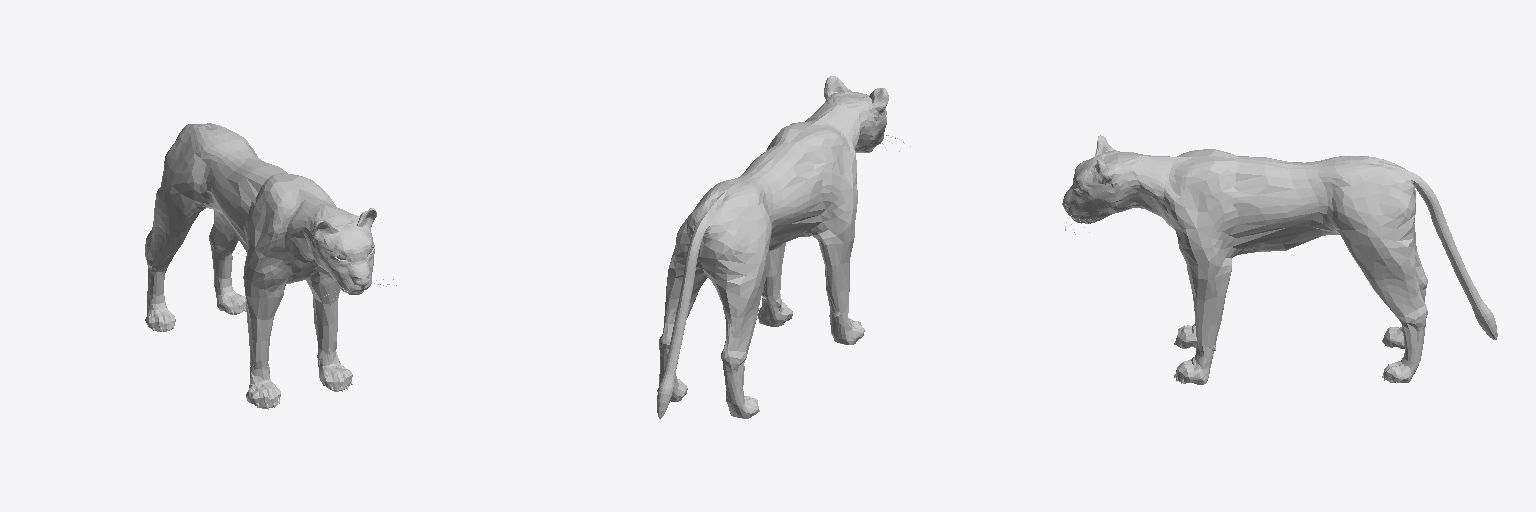
Rendered from LEOPARD.OBJ.
The picture shows the model from 3 angles: view 1: azimuth 30°, elevation 25°; view 2: azimuth 150°, elevation 25°; view 3: azimuth 270°, elevation 25°; orthographic projection.
Parts seen in each view (by area): view 1: lprd_body; view 2: lprd_body; view 3: lprd_body.
Part boxes in pixels (bbox=[...]): lprd_body: bbox=[145, 123, 376, 409]; lprd_body: bbox=[657, 76, 888, 418]; lprd_body: bbox=[1062, 135, 1497, 384].
Bounding box in the file's own units: 0.4355 × 0.8845 × 1.62.